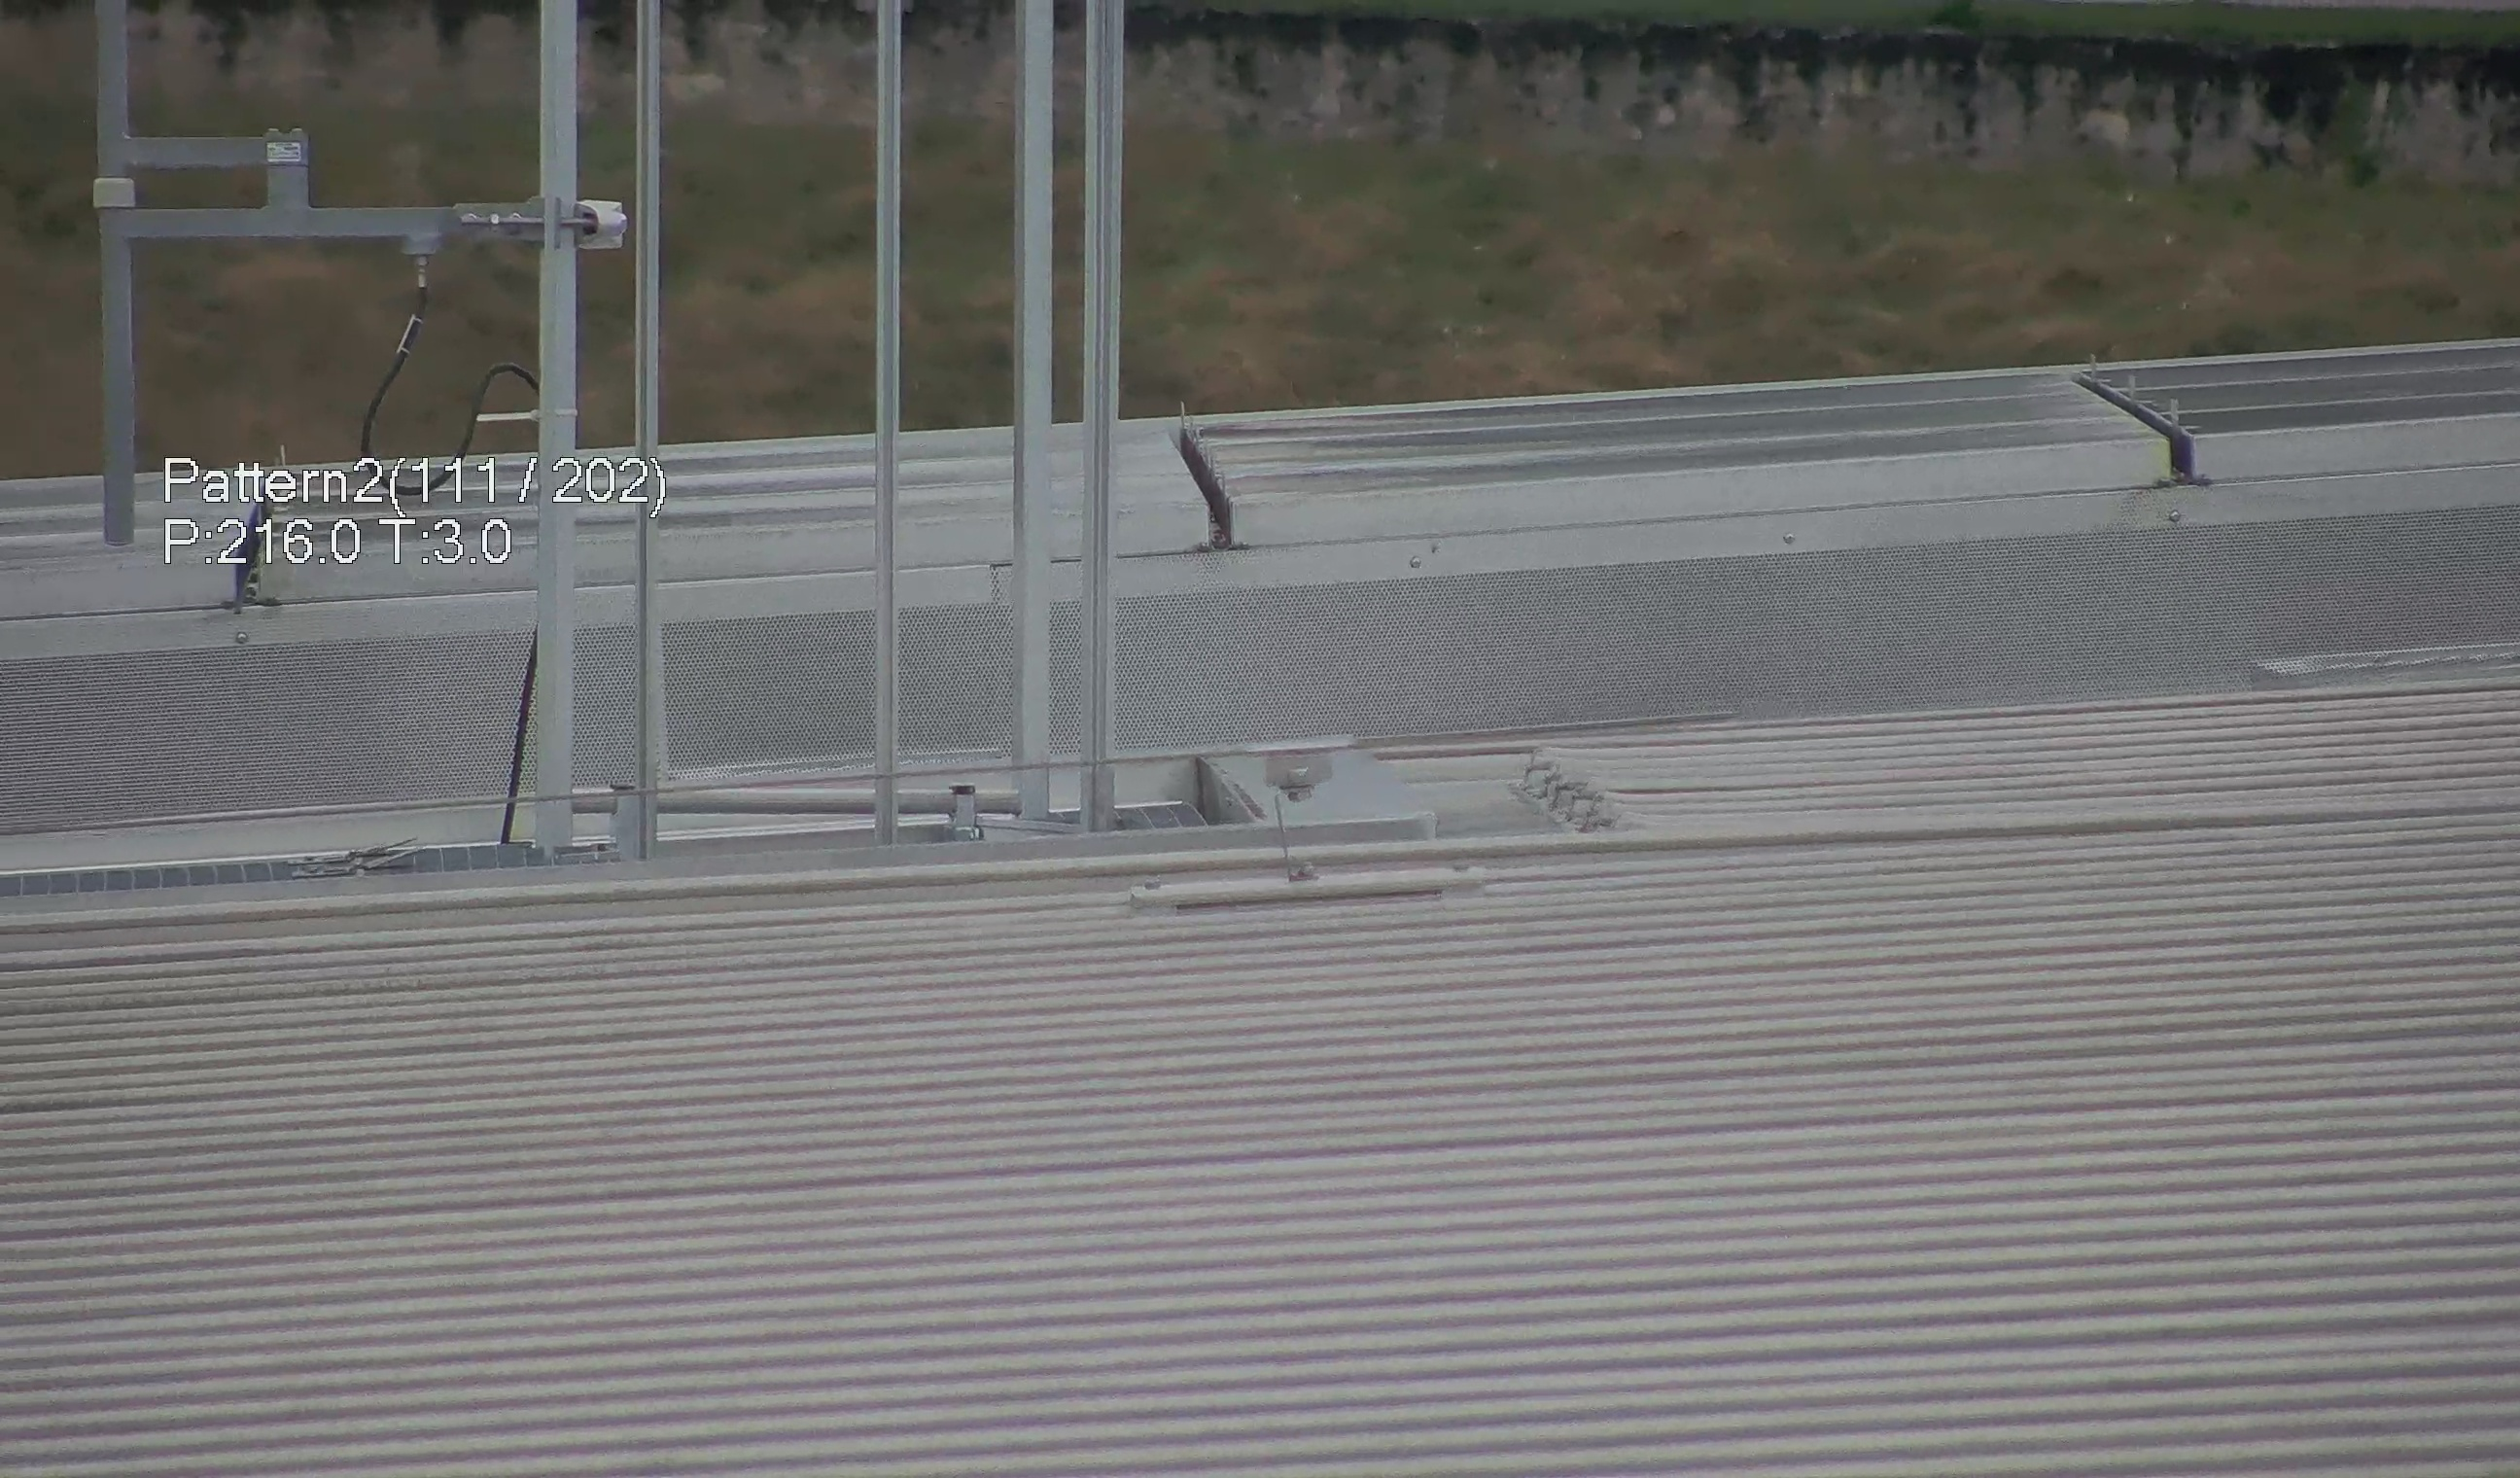Other: (1159, 398, 1259, 556)
